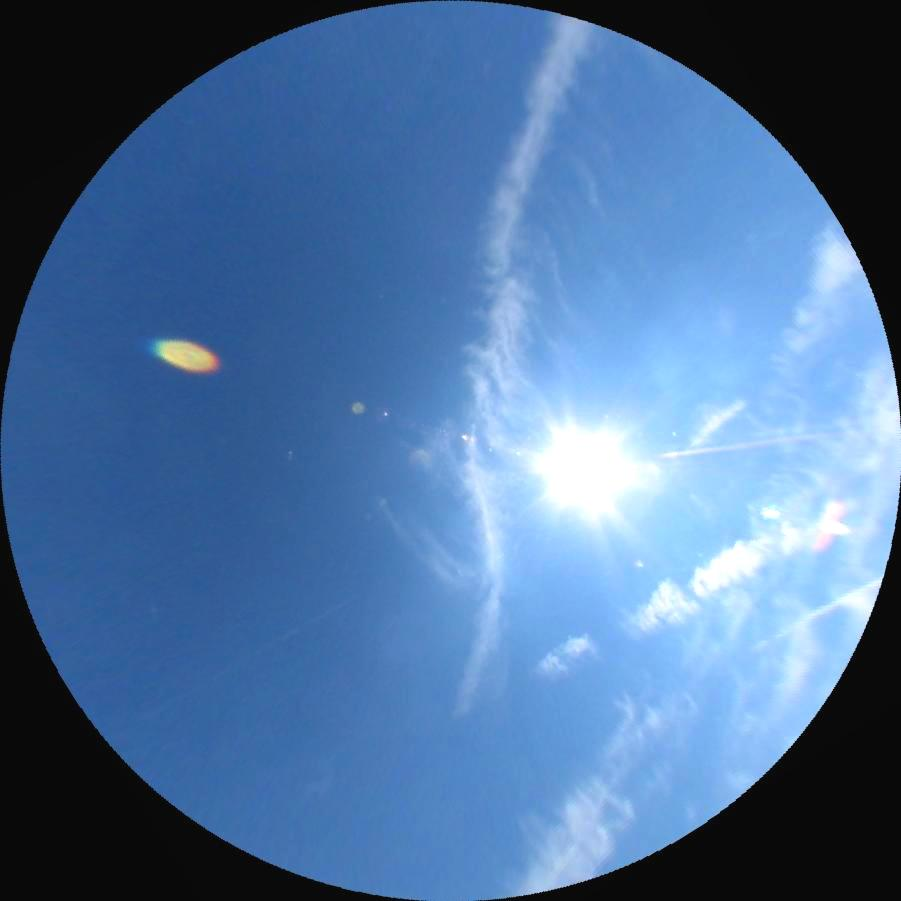contrail veryold: (355, 25, 724, 605), (408, 9, 596, 726), (529, 505, 807, 699)
parasite: (654, 427, 845, 459)
sun: (533, 423, 628, 511)
unknow: (740, 580, 879, 655)
